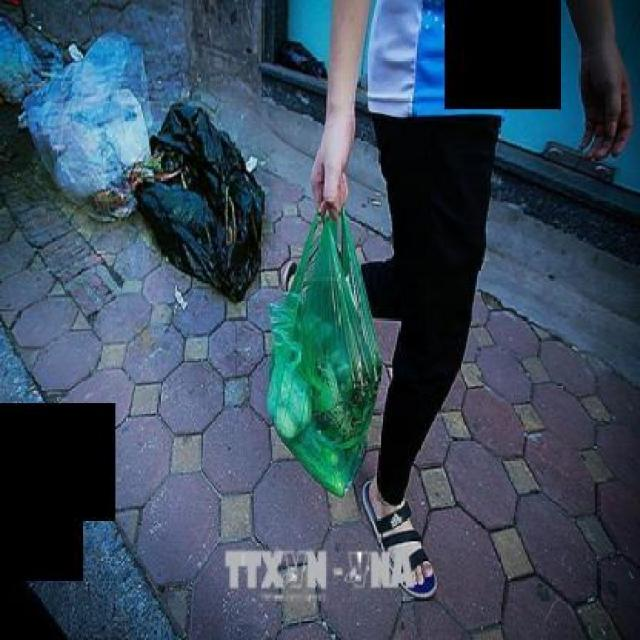plastic bag: (11, 27, 269, 316), (266, 190, 388, 498)
